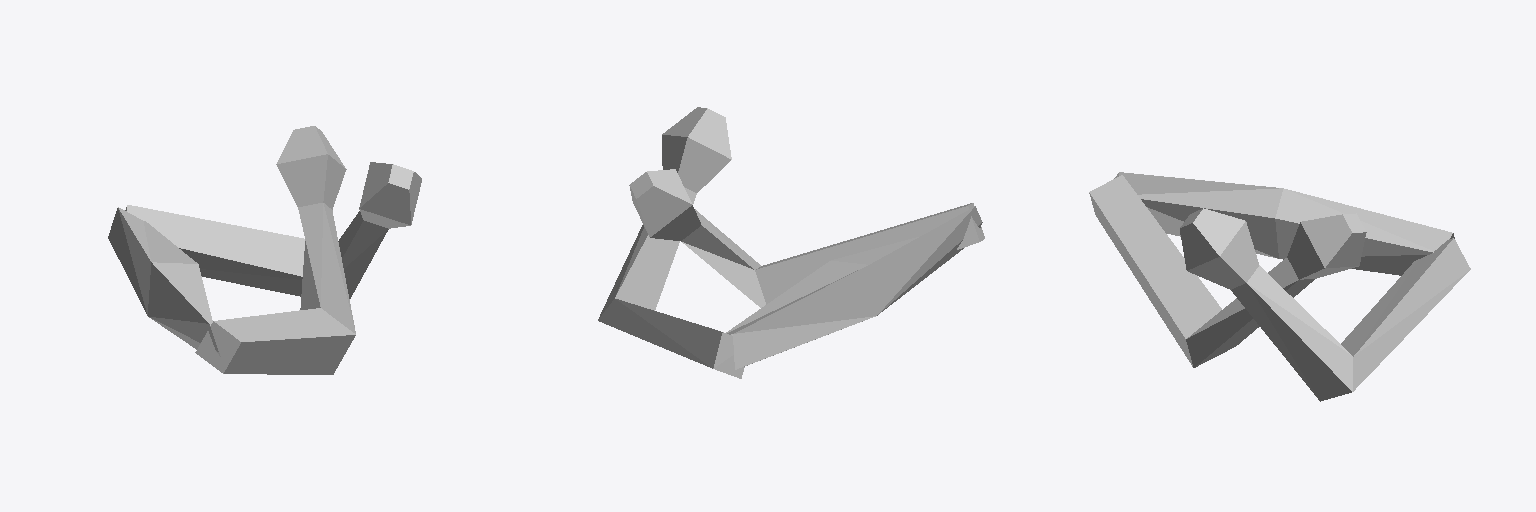
The model's file is handsBlock_000047.obj.
3 views of the same model, side by side, from view 1: azimuth 30°, elevation 25°; view 2: azimuth 150°, elevation 25°; view 3: azimuth 270°, elevation 25° (orthographic).
Parts seen in each view (by area): view 1: Cube; view 2: Cube; view 3: Cube.
Boxes of the visible parts, <box> form: Cube: <box>108,126,421,374</box>; Cube: <box>598,107,984,378</box>; Cube: <box>1089,172,1470,401</box>.
Size of the model in its own units: 4.21 by 2.83 by 5.1.